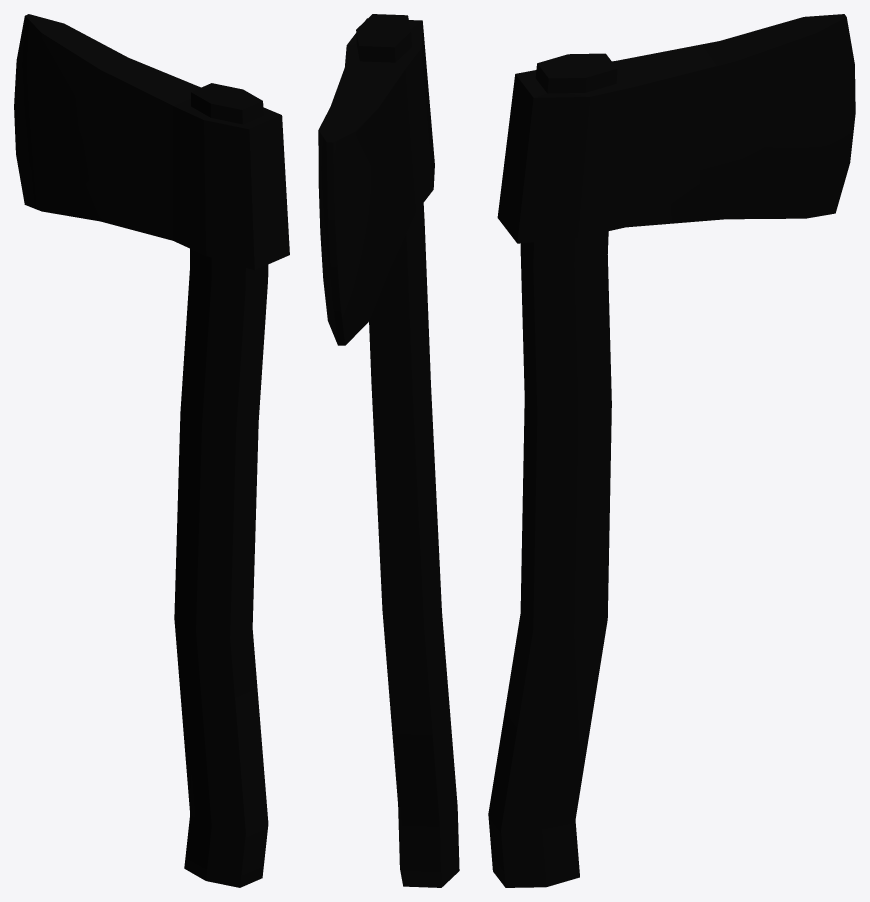
The model's file is Axe.obj.
The picture shows the model from 3 angles, left to right: view 1: azimuth 30°, elevation 25°; view 2: azimuth 150°, elevation 25°; view 3: azimuth 270°, elevation 25°; orthographic projection. The views are drawn at different scales.
Parts seen in each view (by area): view 1: Axe; view 2: Axe; view 3: Axe.
Boxes of the visible parts, <box> form: Axe: <box>14,14,289,887</box>; Axe: <box>318,14,459,887</box>; Axe: <box>488,14,855,887</box>.
Size of the model in its own units: 0.2526 by 1.51 by 0.6023.
1 material, 1 textured.
